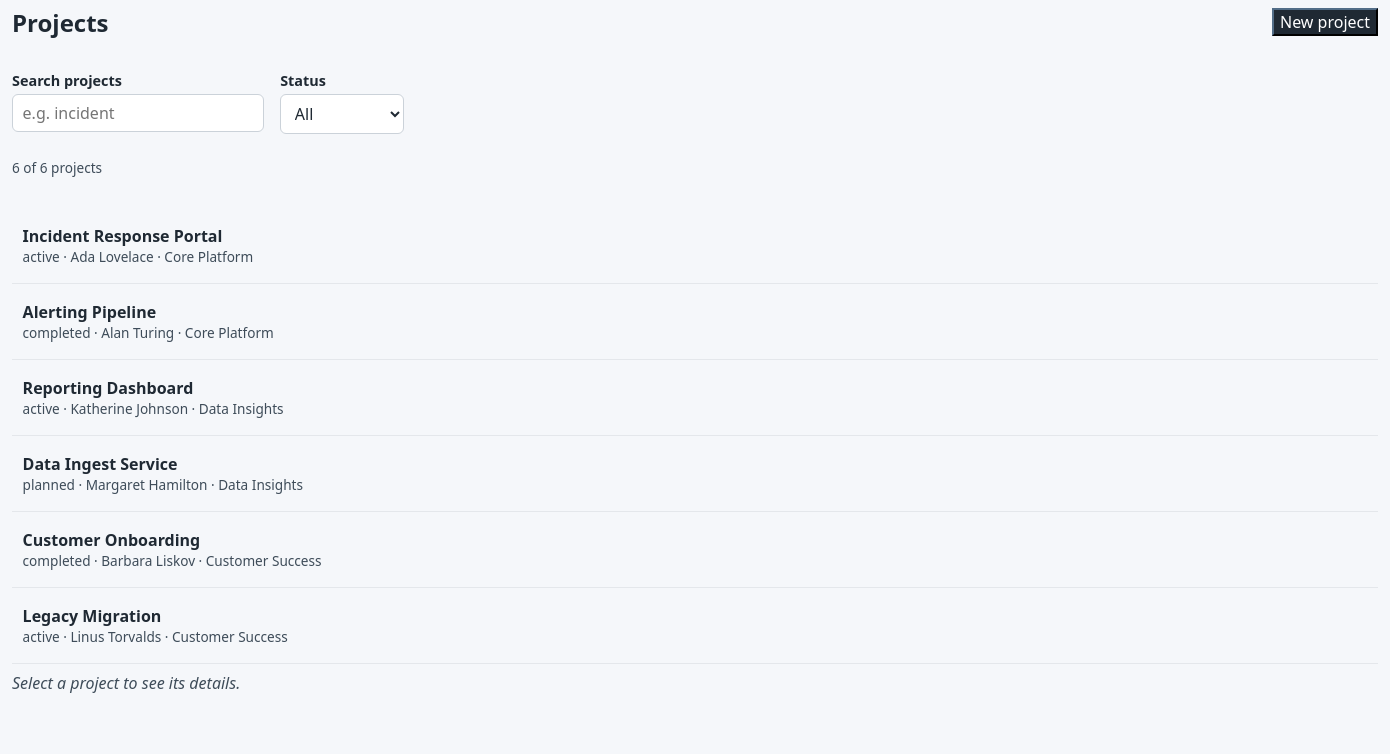
Scenario: ProjectsComponent › creates a project with id project-007 (PRJ-CREATE)
This screenshot has width=1390, height=754.
Step 1. Click the button "New project" → (1325, 22), box [1272,8,1378,36]
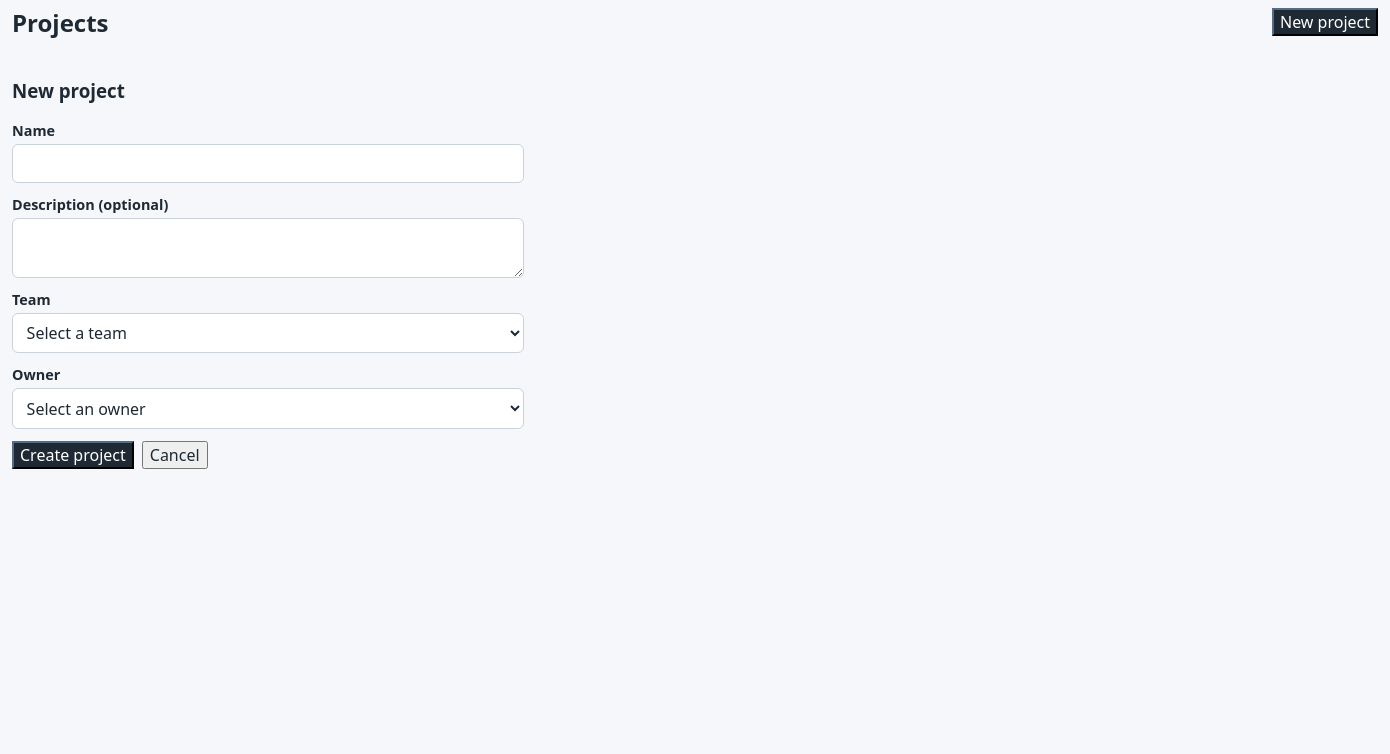
Step 2. Type "Brand New Project" into the field labelled "Name" → (268, 164), box [12,144,524,183]
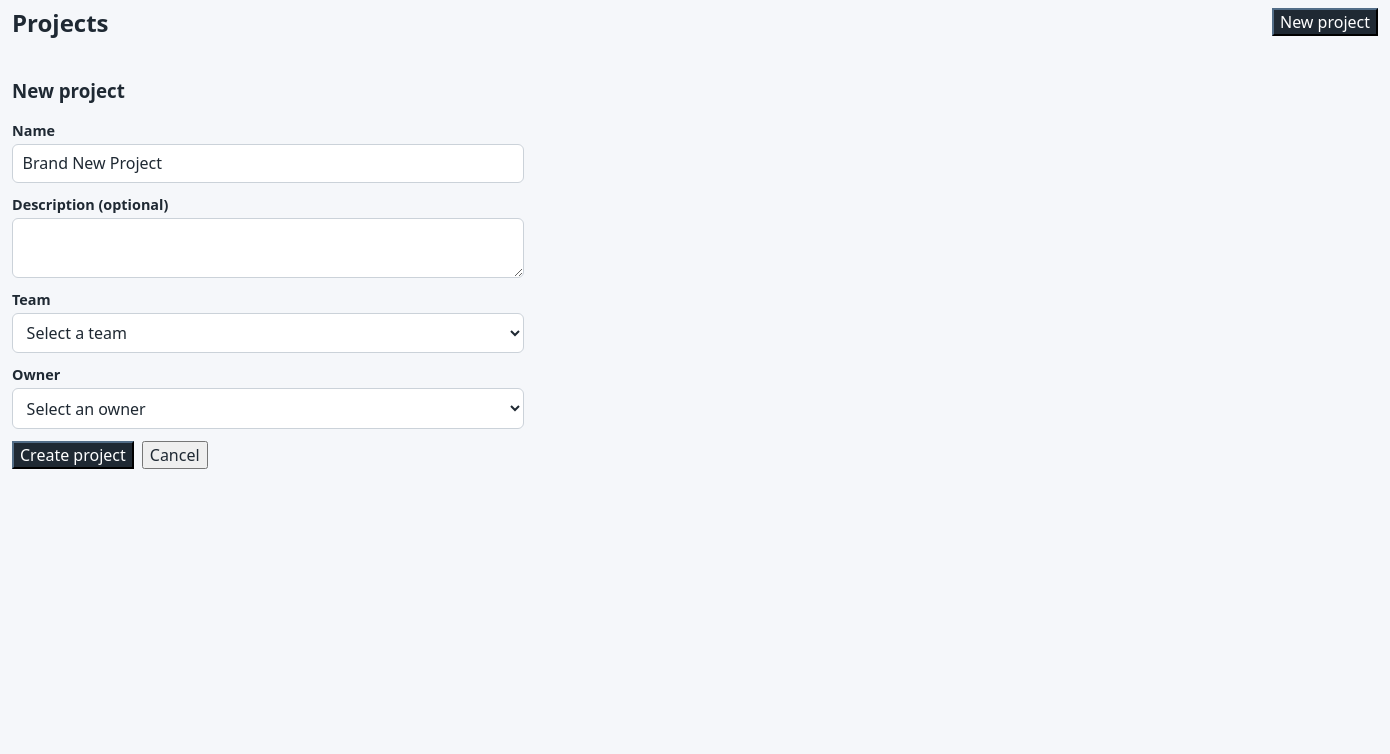
Step 3. Select "Core Platform" in the dropdown labelled "Team" → (268, 333), box [12,313,524,353]
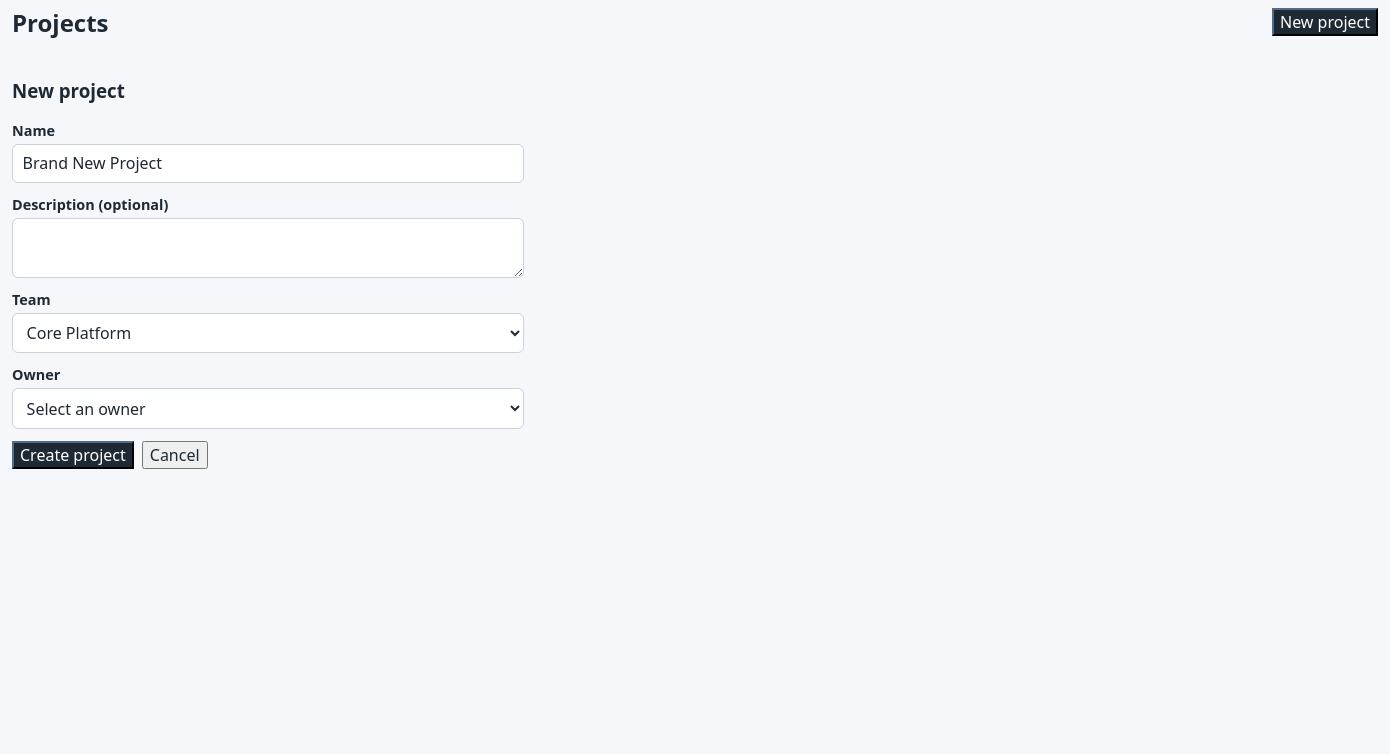
Step 4. Select "Ada Lovelace" in the dropdown labelled "Owner" → (268, 409), box [12,388,524,429]
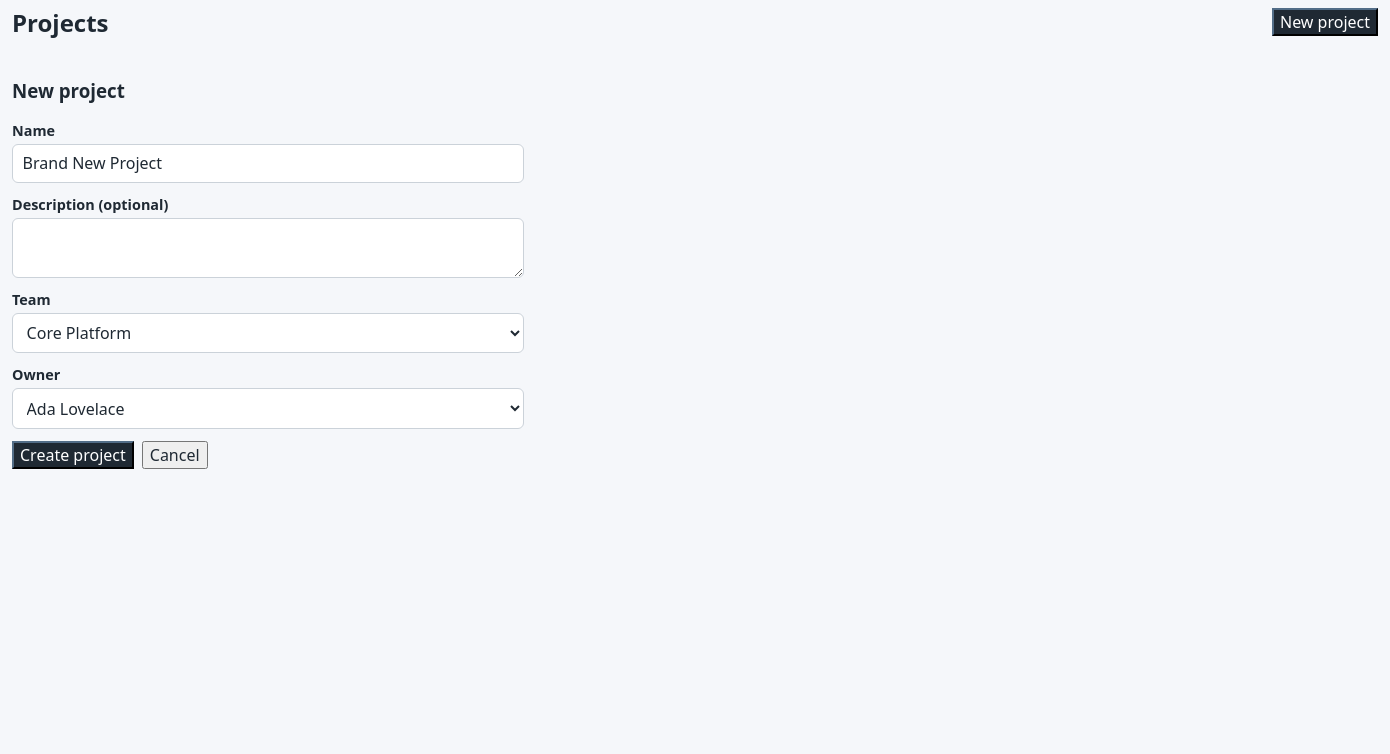
Step 5. Submit the form, box [12,78,524,469]
(page scrolled)
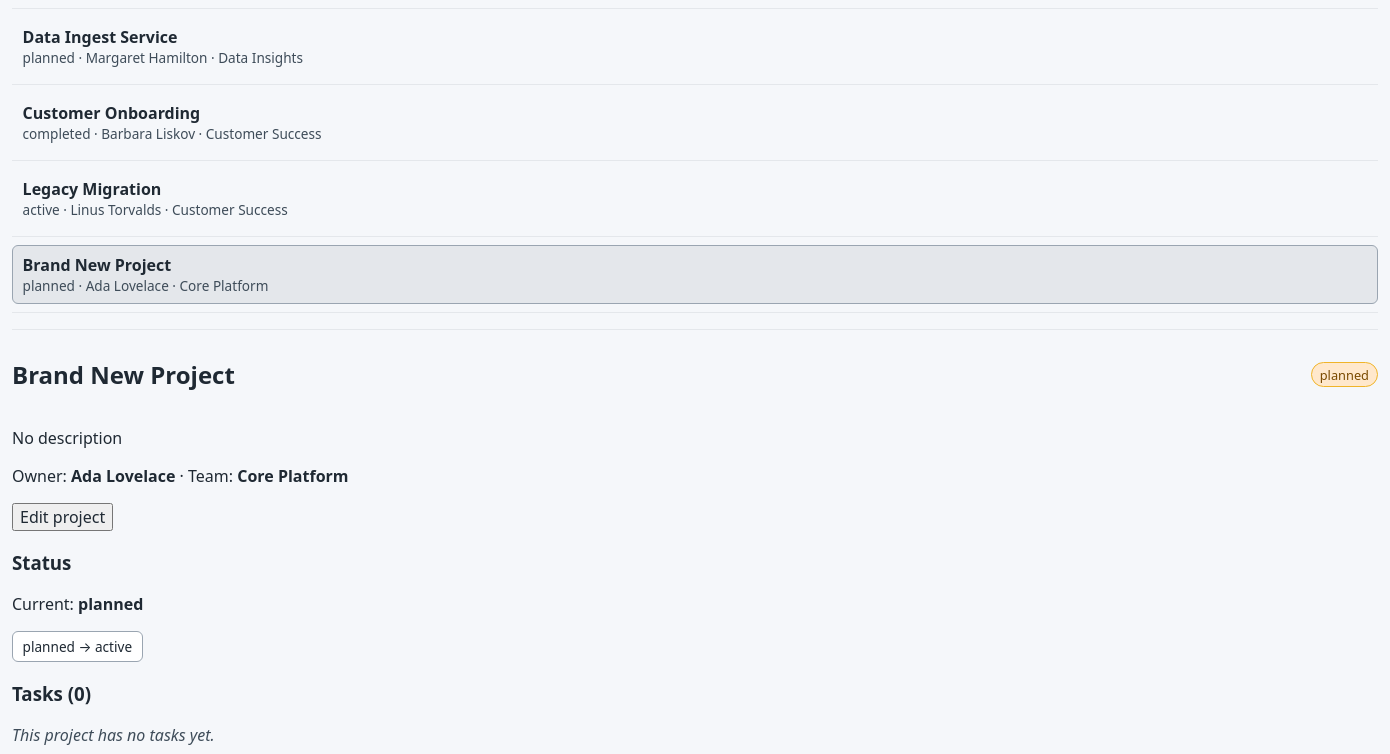
Now the text "Brand New Project" is shown, box [23,254,171,276]
Now the 1st text "planned" is shown, box [1311,362,1378,387]
